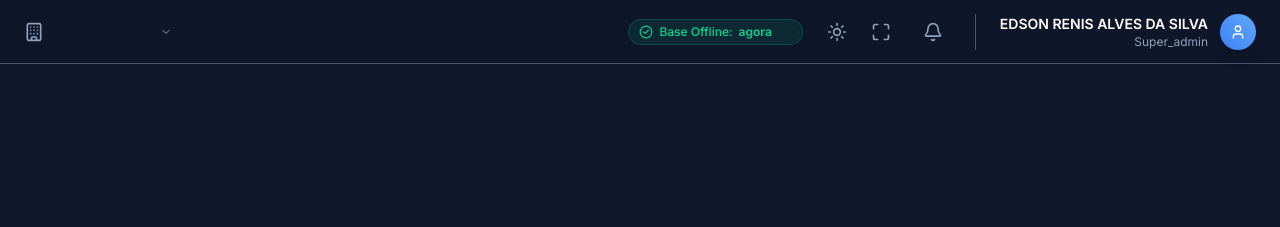
it: menu do usuário no Topbar › sair continua passando pela confirmação
The image size is (1280, 227).
Click the button titled "Minha conta" at point(1115, 32), box [975,14,1256,50]
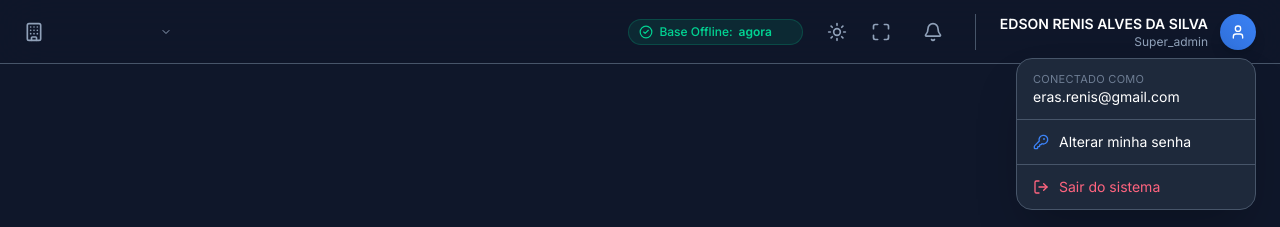
Click the menu item "Sair do sistema" at point(1136, 186), box [1017,164,1255,209]
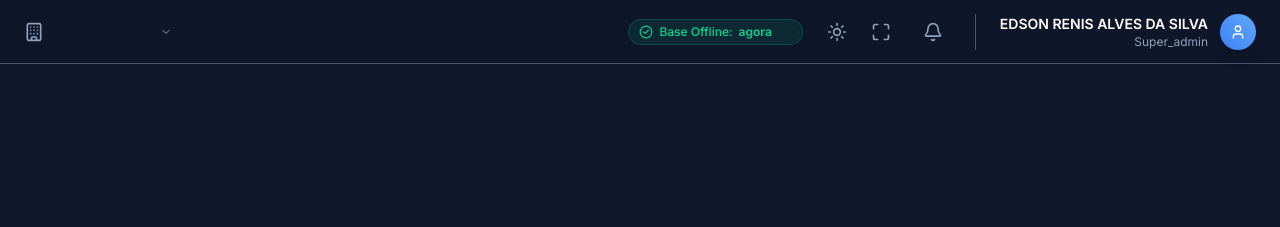
Expected: the menu is gone
